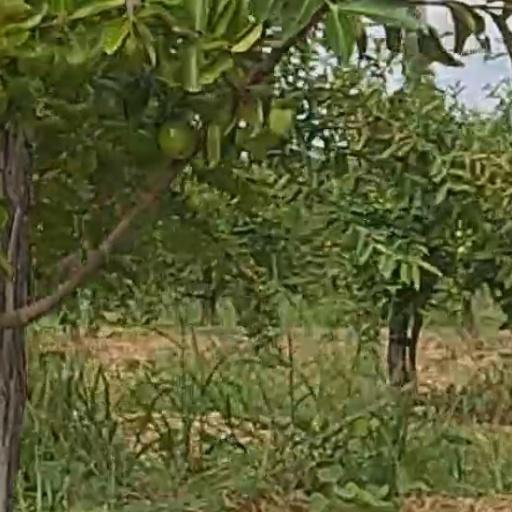acerola_verde: (160, 122, 195, 161)
